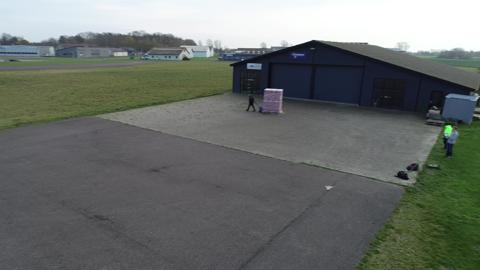RockwoolPallet: (263, 87, 284, 114)
